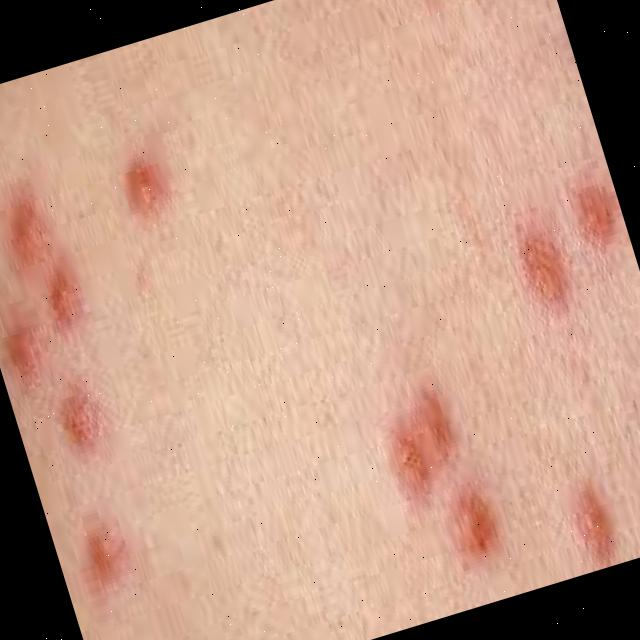kan emici bocekler: (383, 396, 480, 501), (511, 233, 583, 317), (1, 182, 62, 278), (116, 142, 178, 234), (1, 315, 62, 399), (60, 387, 124, 466), (37, 258, 101, 334), (76, 515, 133, 585), (560, 490, 614, 558), (581, 194, 619, 246)
